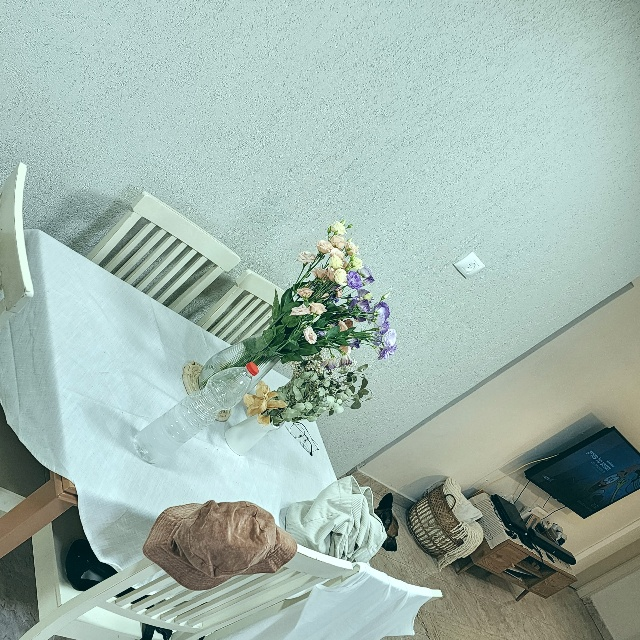glasses: (288, 418, 325, 459)
